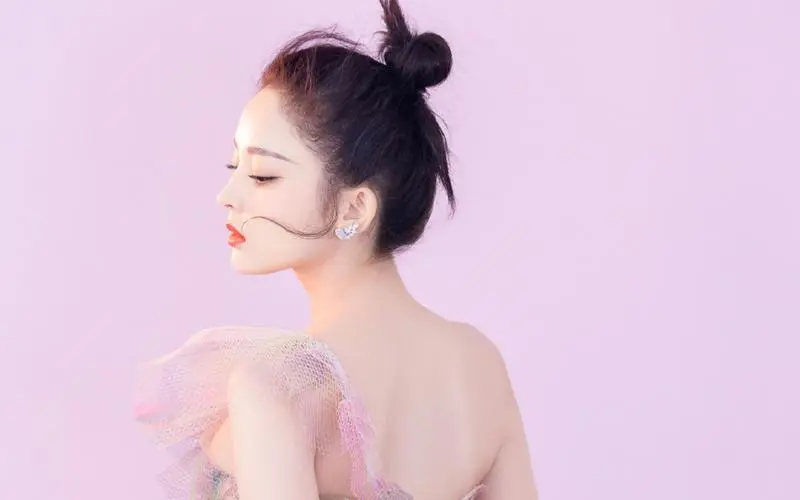withoutmask: (203, 13, 483, 289)
